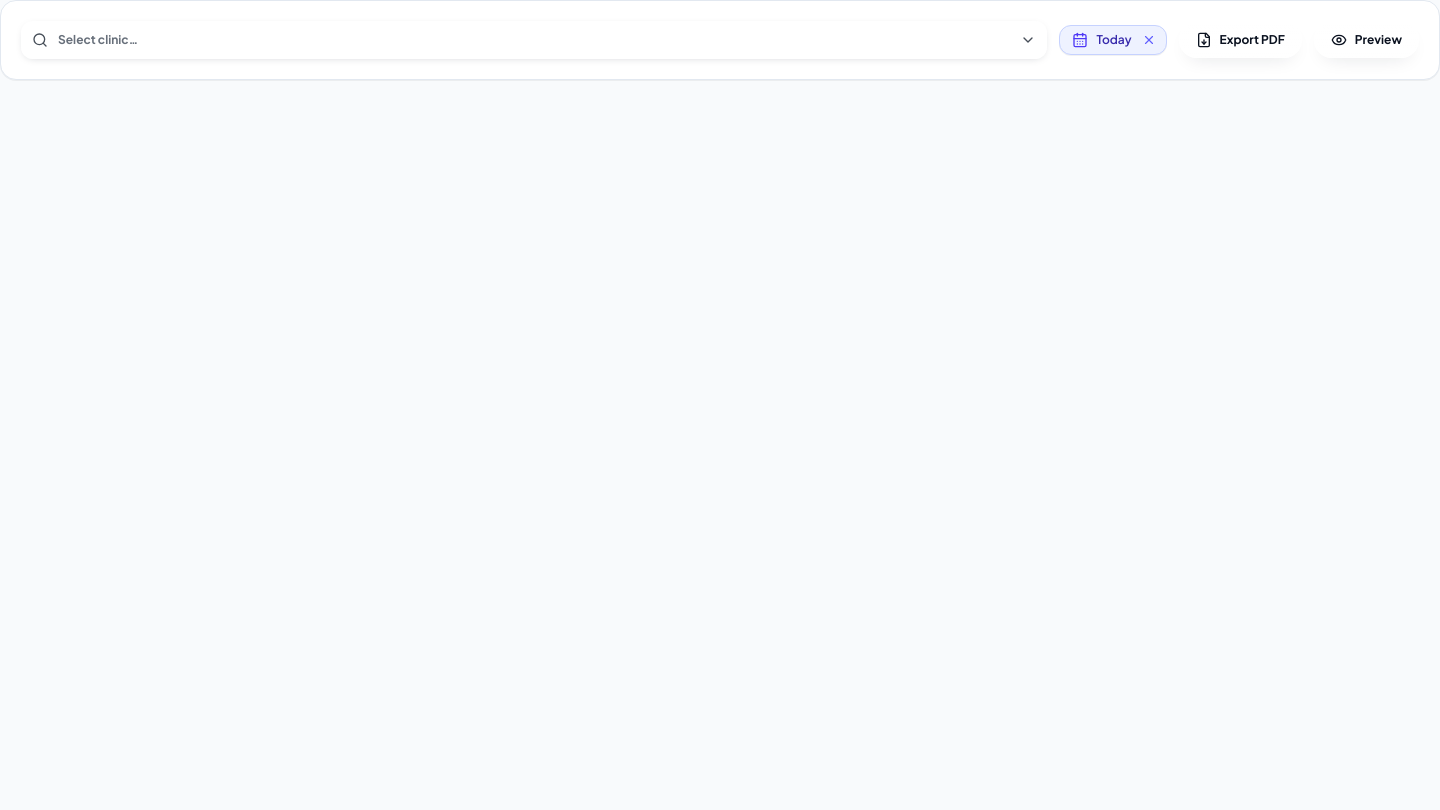
Scenario: General Ledger preview: invoice settlement badge › marks a partly paid invoice Partial
The width and height of the screenshot is (1440, 810).
Click the dropdown "Select clinic…".
click(534, 40)  # box [21,21,1047,59]
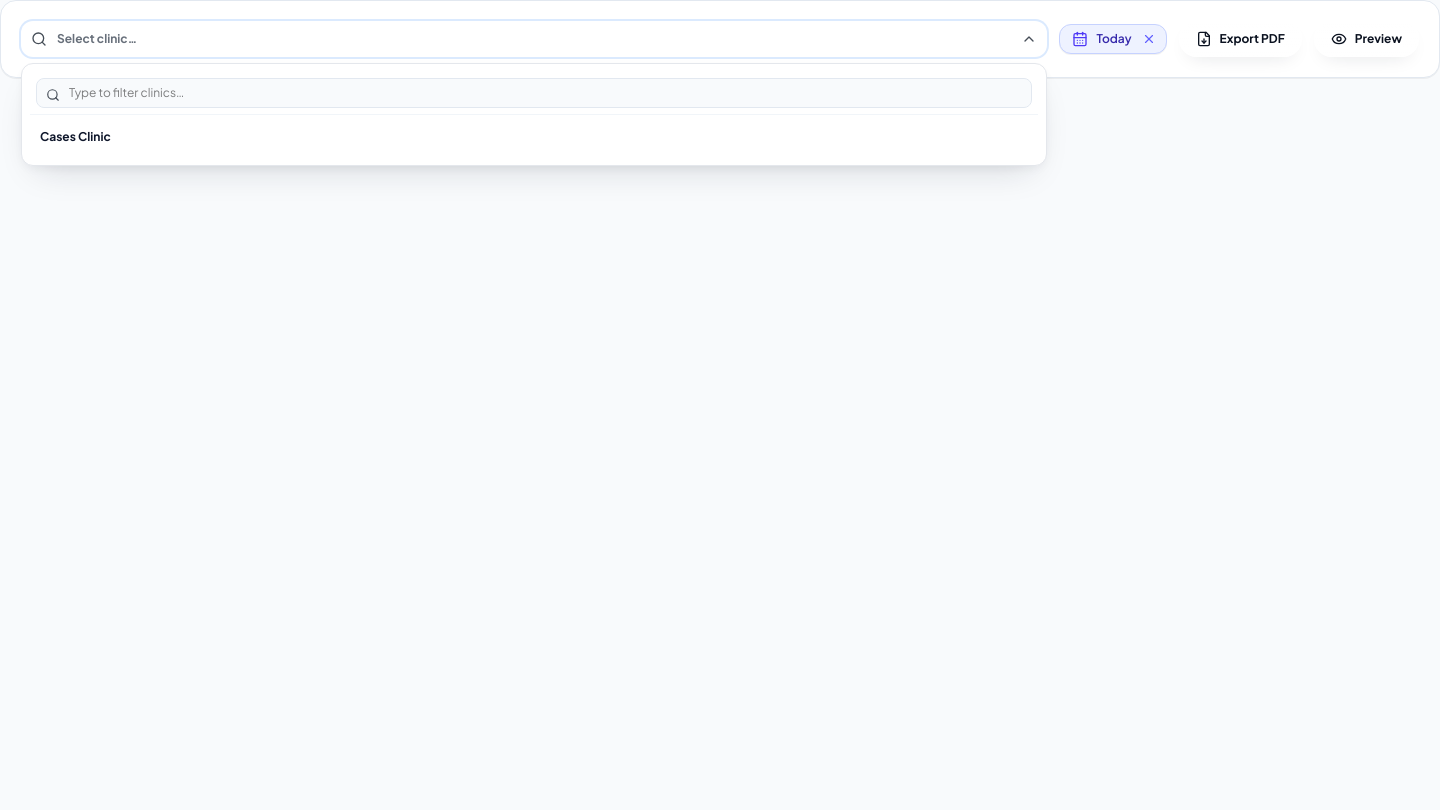
Click the option "Cases Clinic".
click(75, 136)  # box [30,119,1038,157]
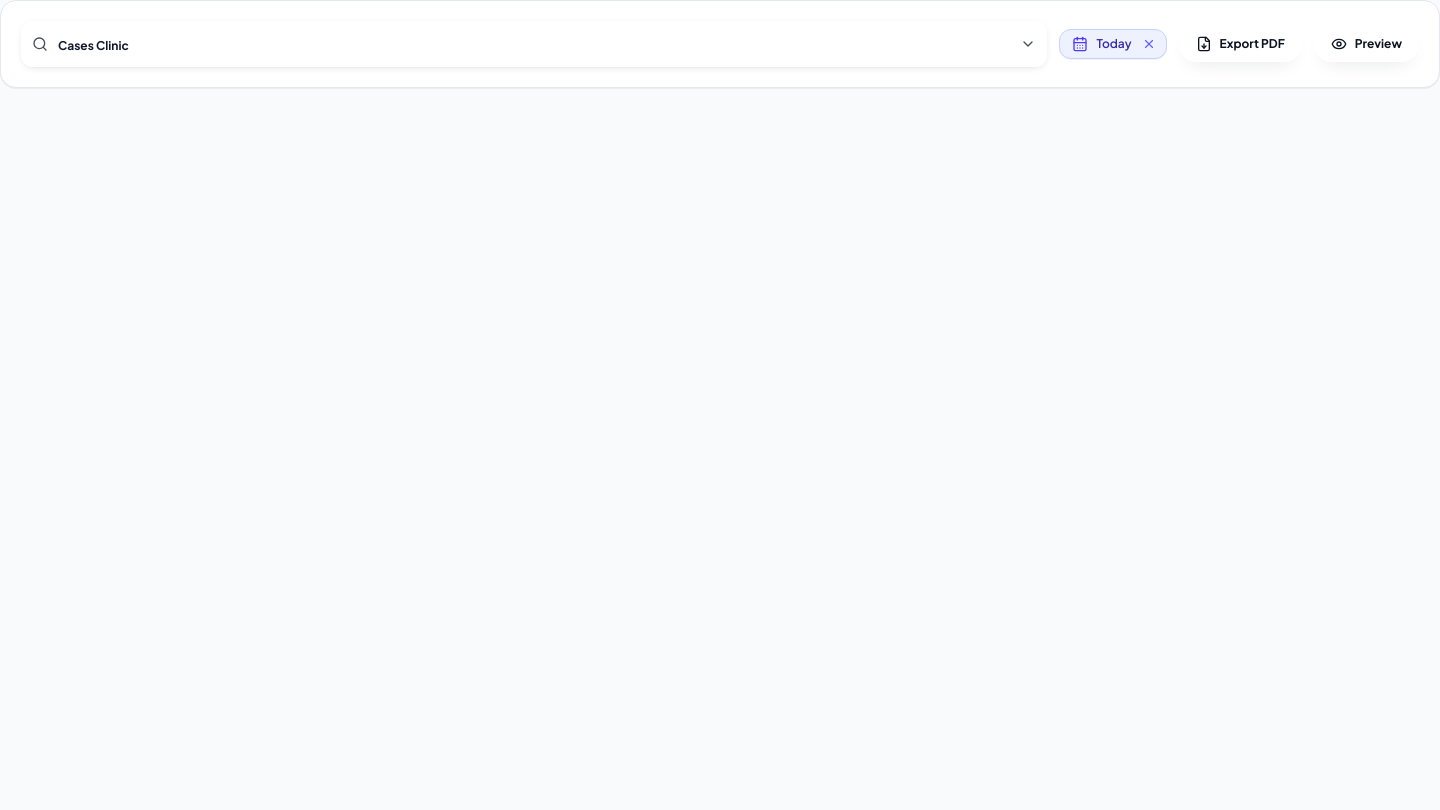
Click the button "Today".
click(1099, 44)  # box [1060,30,1138,58]
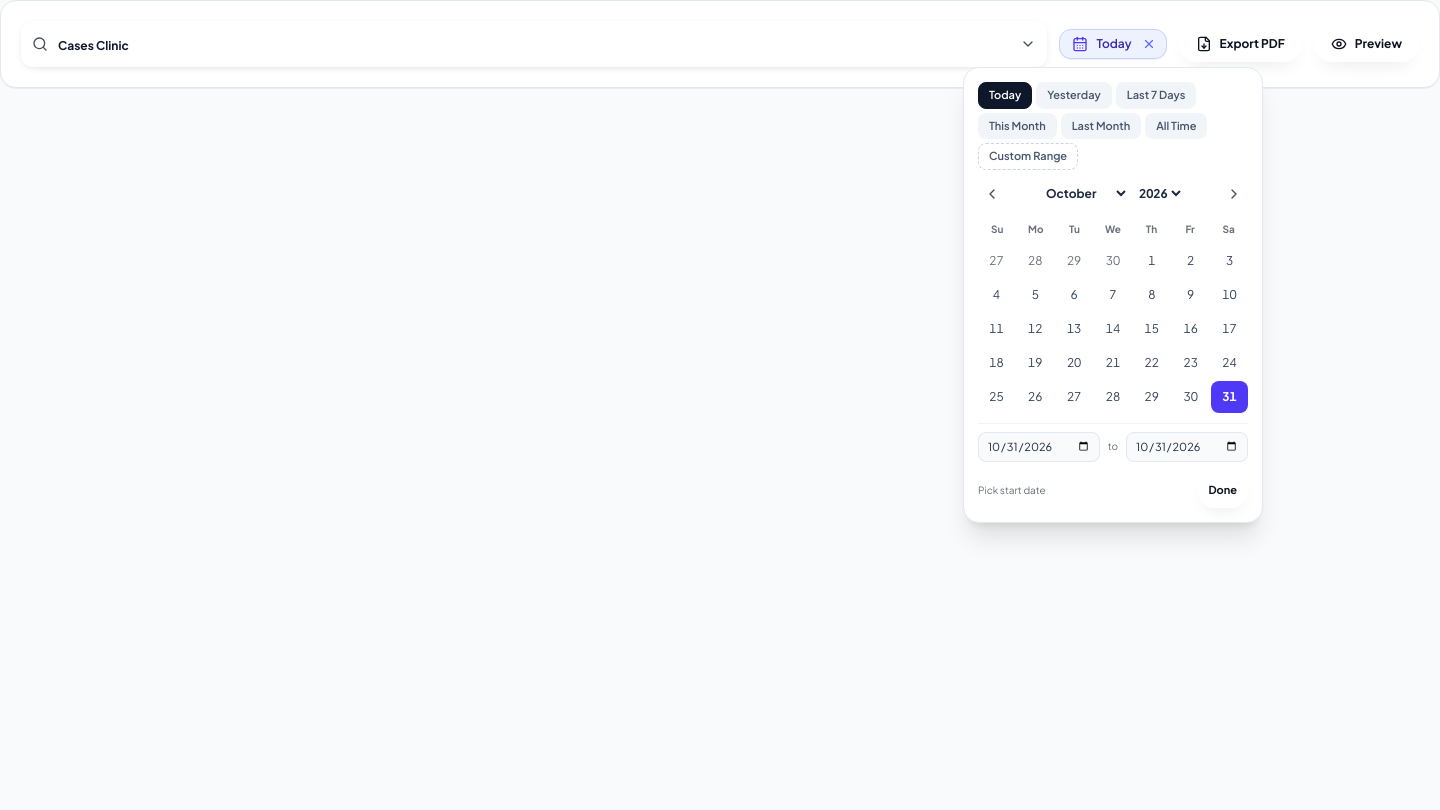
Click the button "All Time".
click(1176, 126)  # box [1145,112,1207,139]
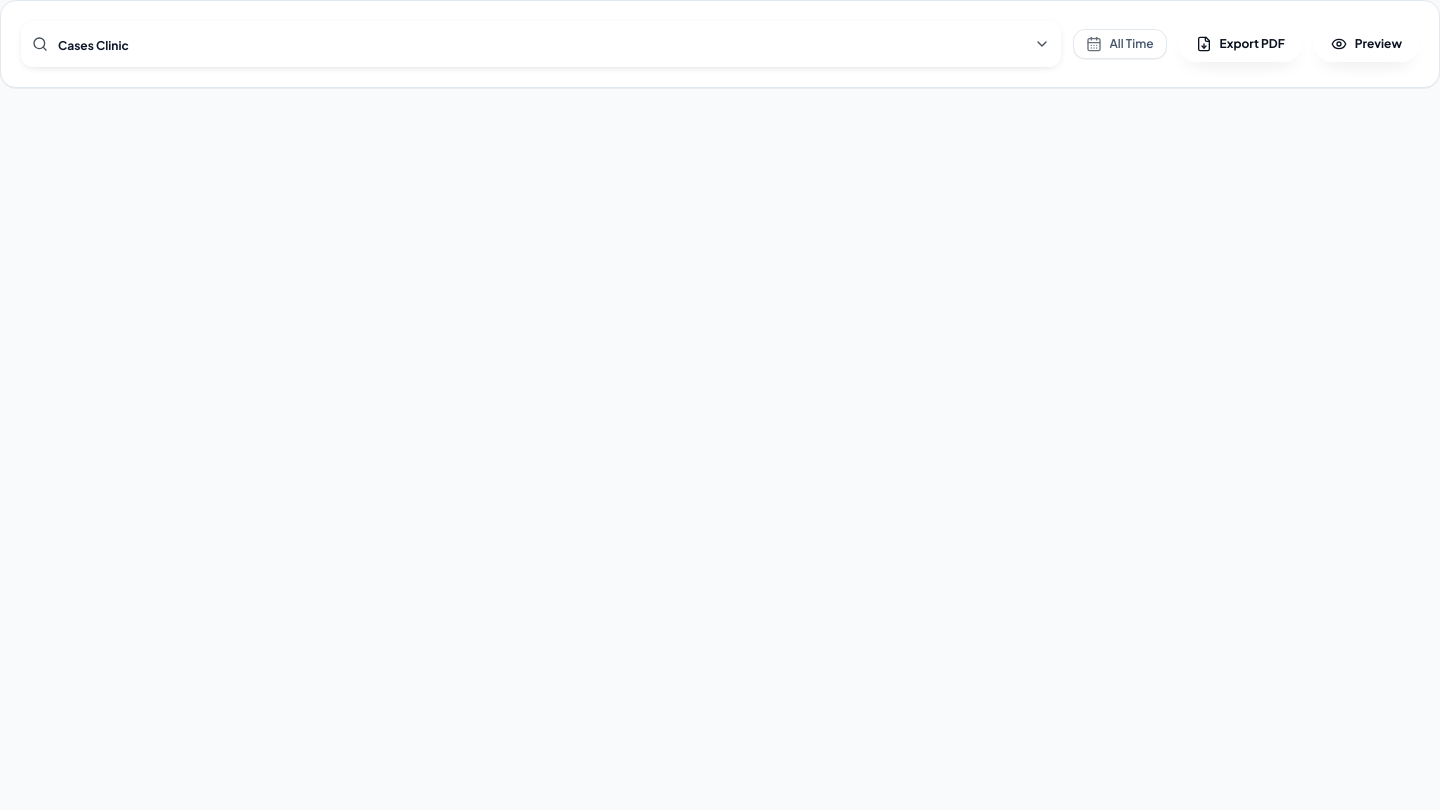
Click the button "Preview".
click(1366, 44)  # box [1314,26,1419,62]
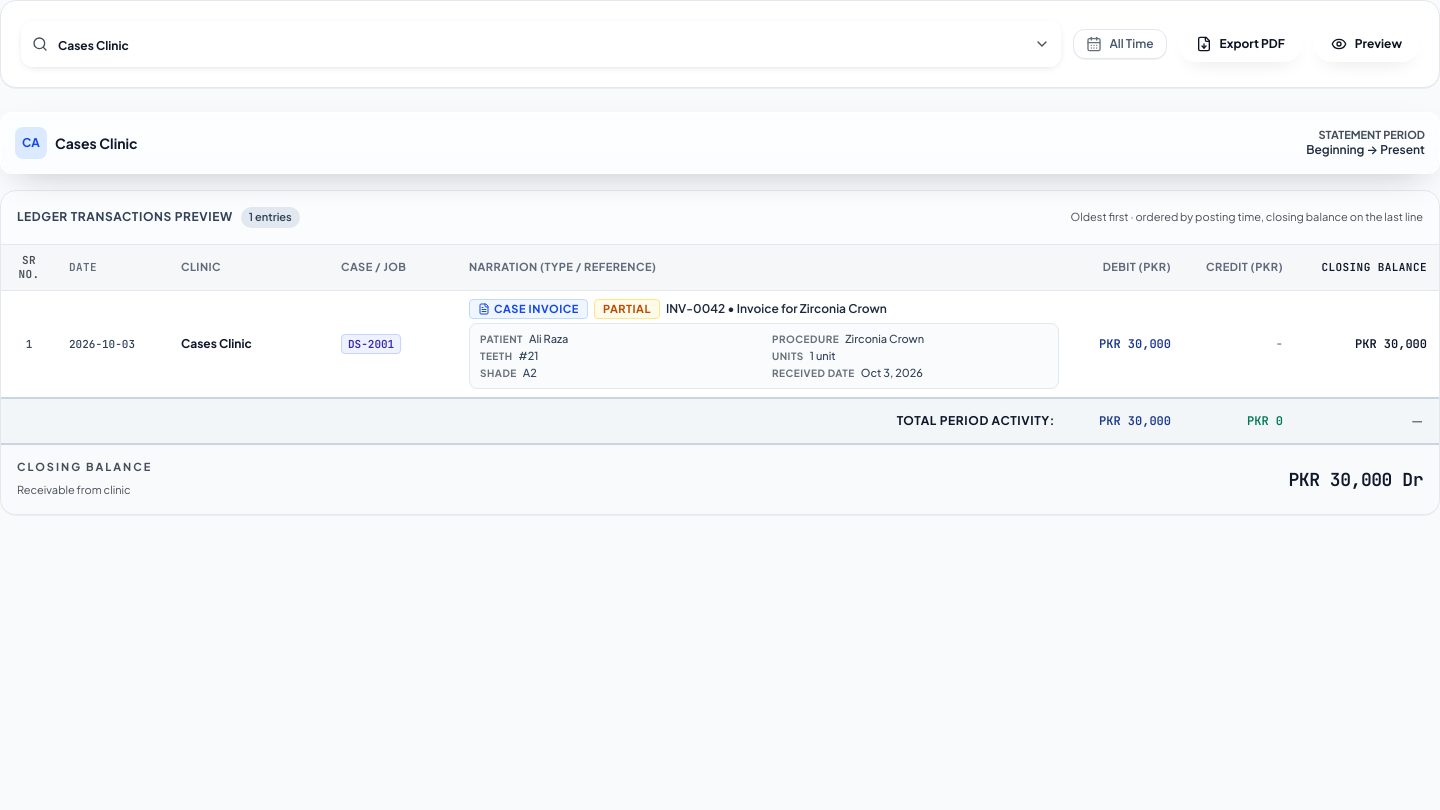
expect the text "Partial" is shown: met, box [594,299,660,320]
